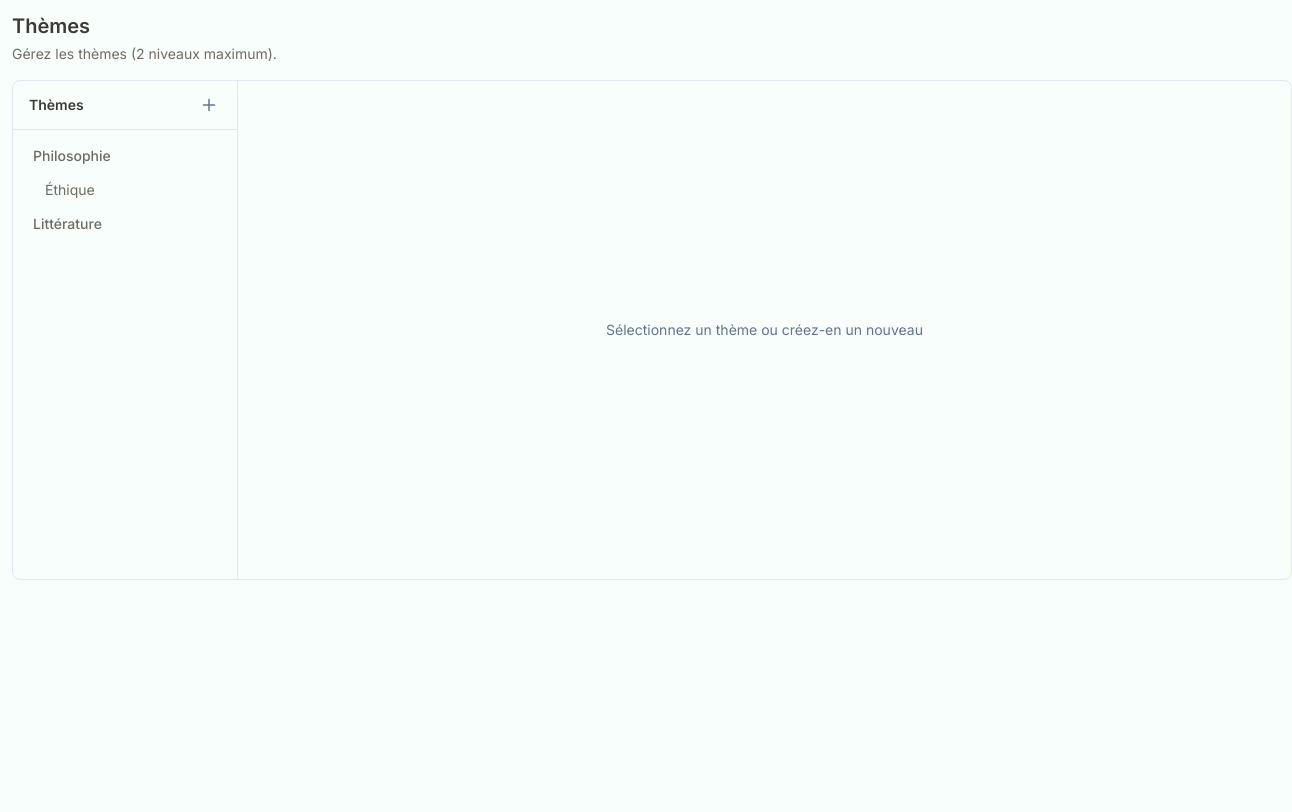
Test: ThemesPage › affiche le formulaire de détail en cliquant sur un thème racine
Click the button with test id "theme-item-1" at (125, 156), box top-left (21, 138), bottom-right (229, 174)
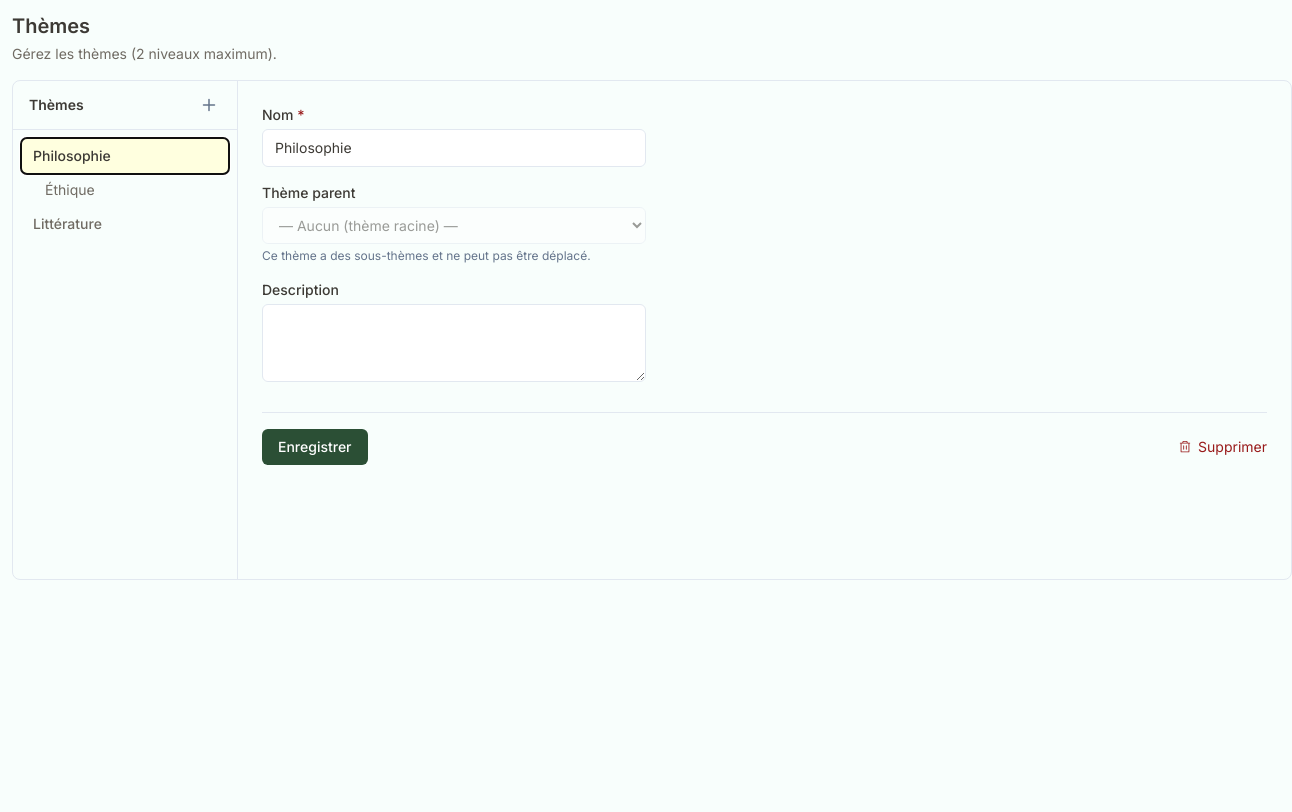
Now the field named "Nom du thème" holds "Philosophie", box top-left (262, 129), bottom-right (646, 167)
